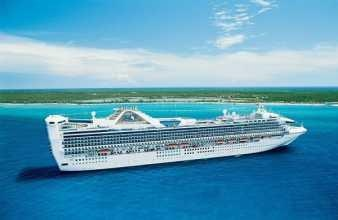youlun: (37, 95, 304, 175)
